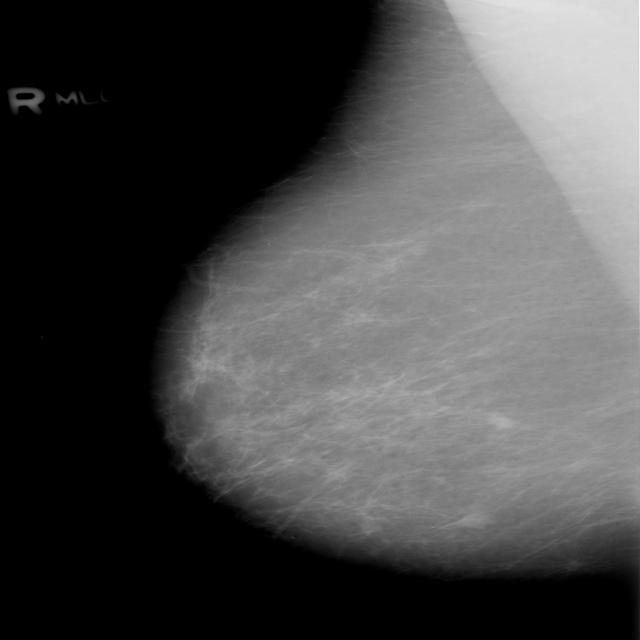normal: (161, 0, 640, 594)
